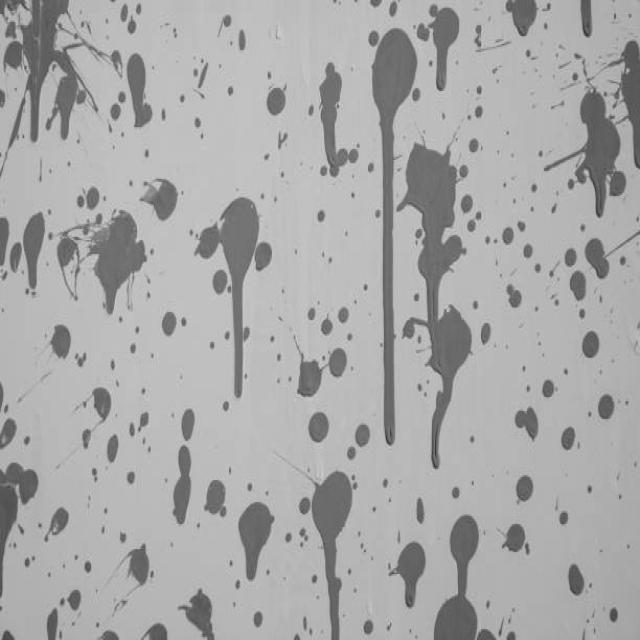paint drips: (411, 192, 457, 476), (373, 88, 404, 449), (307, 511, 350, 640), (311, 51, 349, 191), (572, 130, 614, 232), (24, 59, 52, 166), (227, 247, 244, 410), (96, 266, 142, 326), (393, 556, 420, 629), (26, 228, 42, 311), (576, 0, 601, 47), (243, 535, 263, 592), (54, 94, 72, 154), (434, 38, 449, 108), (452, 548, 470, 605)
